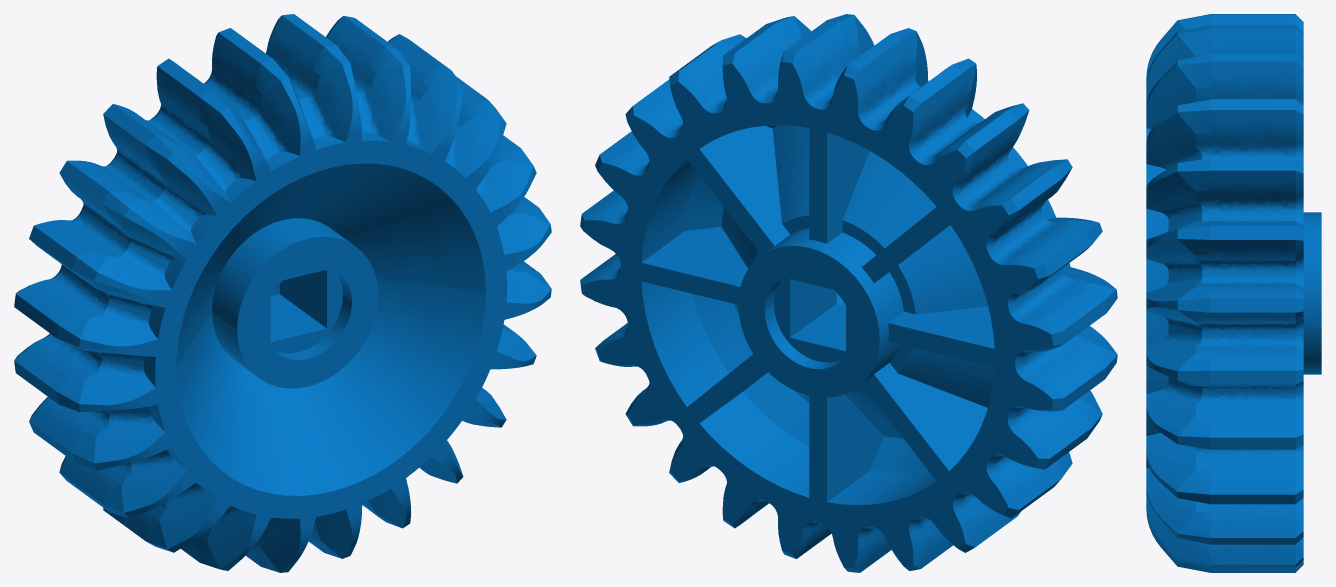
Rendered from 24 Tooth Hybrid Gear (228-2500-251).glb.
The picture shows the model from 3 angles, left to right: view 1: azimuth 30°, elevation 25°; view 2: azimuth 150°, elevation 25°; view 3: azimuth 270°, elevation 25°; orthographic projection.
Visible parts, largest first — view 1: 24 Tooth Hybrid Gear (228-2500-251); view 2: 24 Tooth Hybrid Gear (228-2500-251); view 3: 24 Tooth Hybrid Gear (228-2500-251).
Boxes of the visible parts, <box> form: 24 Tooth Hybrid Gear (228-2500-251): <box>14,14,551,572</box>; 24 Tooth Hybrid Gear (228-2500-251): <box>580,14,1117,572</box>; 24 Tooth Hybrid Gear (228-2500-251): <box>1146,14,1321,572</box>.
Size of the model in its own units: 1.08 by 1.08 by 0.34.
